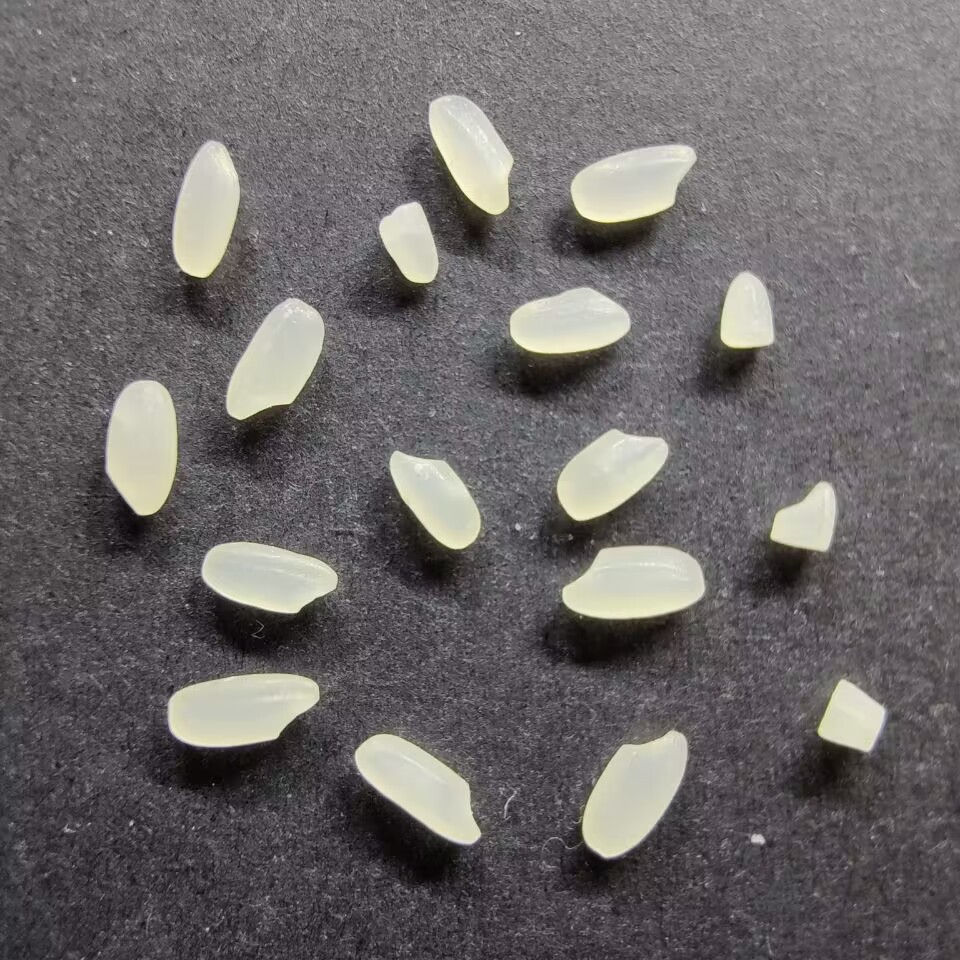broken: (816, 677, 888, 755), (378, 199, 440, 285), (767, 480, 838, 554), (718, 269, 777, 352)
rice: (352, 732, 483, 846), (580, 726, 690, 860), (223, 296, 325, 422), (164, 669, 321, 749), (559, 543, 707, 621), (426, 92, 516, 217), (554, 427, 670, 521), (103, 378, 179, 518), (199, 540, 339, 616), (570, 142, 696, 224), (170, 139, 242, 278), (387, 449, 481, 552), (506, 285, 632, 354)
